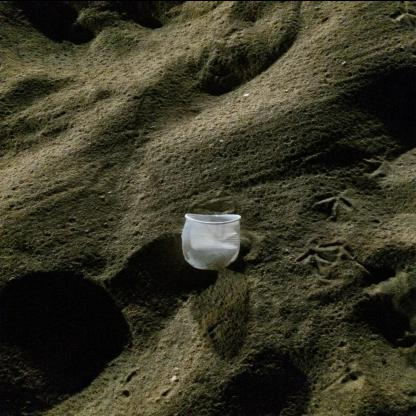plastik: (181, 211, 241, 269)
